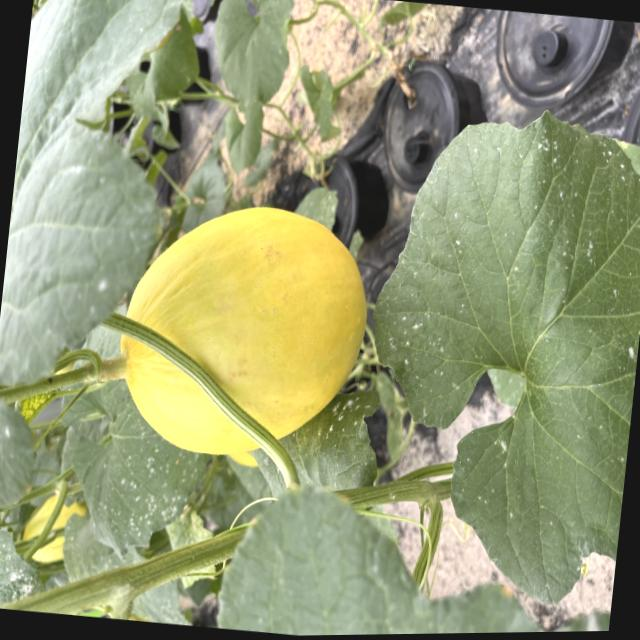powdery mildew: (339, 93, 640, 620)
